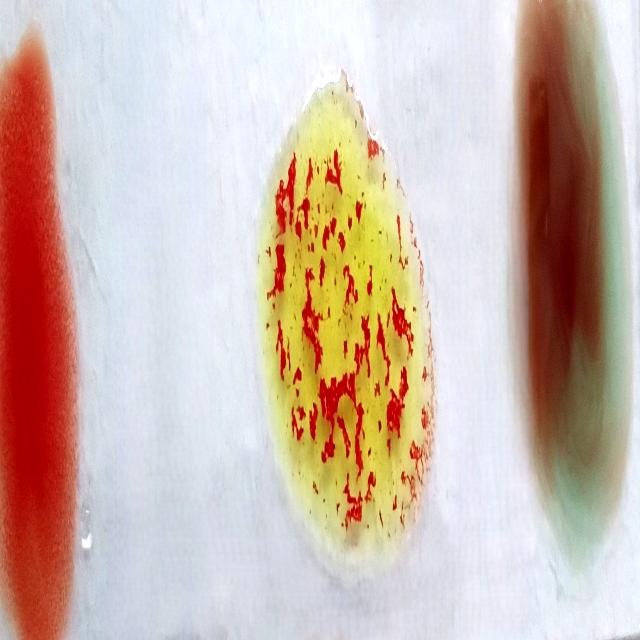B: (266, 64, 435, 549)
D: (4, 35, 71, 640)
